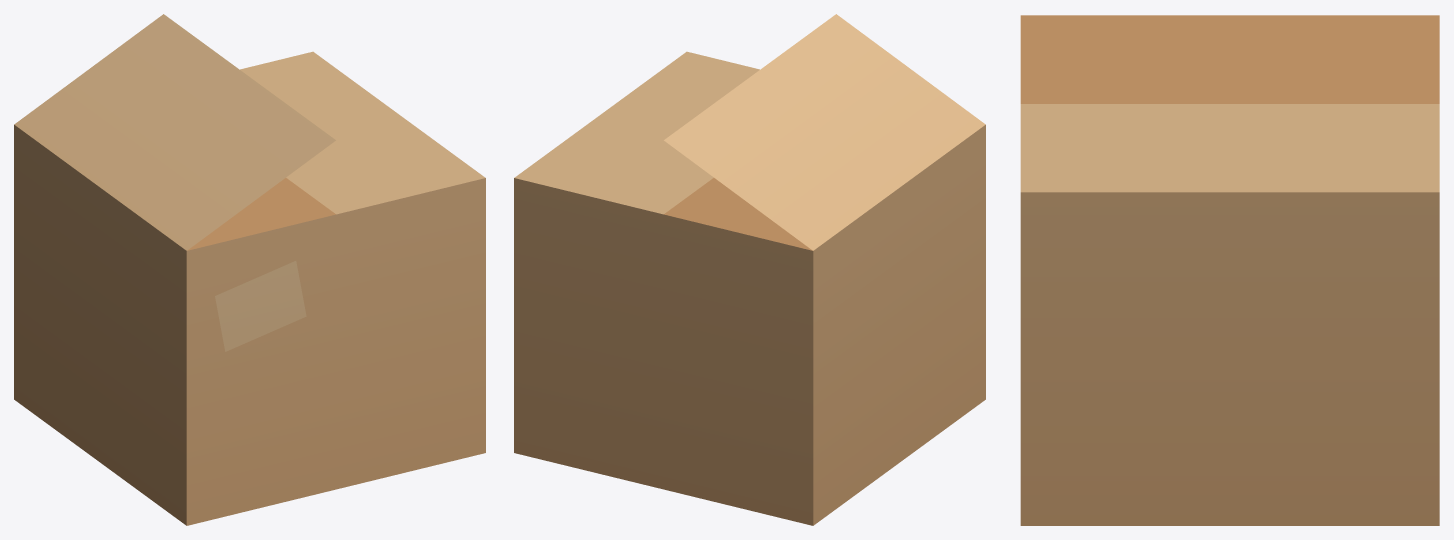
File: box_B-processed.glb
The picture shows the model from 3 angles, left to right: view 1: azimuth 30°, elevation 25°; view 2: azimuth 150°, elevation 25°; view 3: azimuth 270°, elevation 25°; orthographic projection. The views are drawn at different scales.
Visible parts, largest first — view 1: box_B; view 2: box_B; view 3: box_B.
Part boxes in pixels (x1,y1,x2,y2): box_B: (14, 14, 485, 525); box_B: (514, 14, 985, 525); box_B: (1020, 15, 1439, 525).
Bounding box in the file's own units: 0.1521 × 0.1696 × 0.1544.
1 material, 1 textured.
